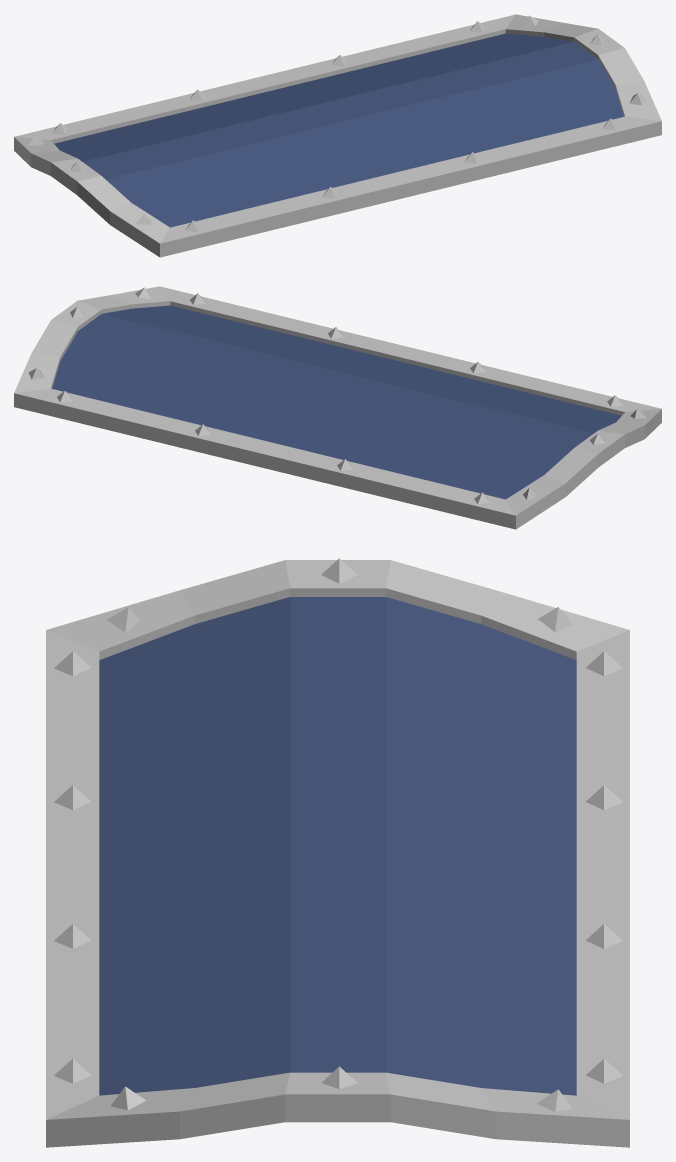
Rendered from Shield_2_b_bl.fbx.
3 views of the same model, one above another, from view 1: azimuth 30°, elevation 25°; view 2: azimuth 150°, elevation 25°; view 3: azimuth 270°, elevation 25° (orthographic). The views are drawn at different scales.
Parts seen in each view (by area): view 1: Plane.191, Plane.190, Cone.384; view 2: Plane.191, Plane.190, Cone.384; view 3: Plane.191, Plane.190, Cone.384.
Boxes of the visible parts, x1,y1,x2,y2 form: Plane.191: (54,33,623,227); Plane.190: (14,14,661,257); Cone.384: (28,15,645,231); Plane.191: (52,305,621,499); Plane.190: (14,286,661,529); Cone.384: (28,287,646,504); Plane.191: (99,597,576,1095); Plane.190: (46,560,629,1147); Cone.384: (54,558,622,1111).
Size of the model in its own units: 132 by 16.24 by 61.17.
